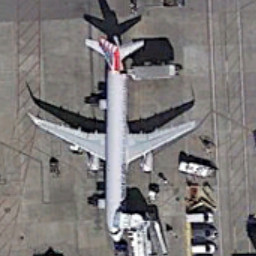Airplane: (19, 29, 211, 246)
